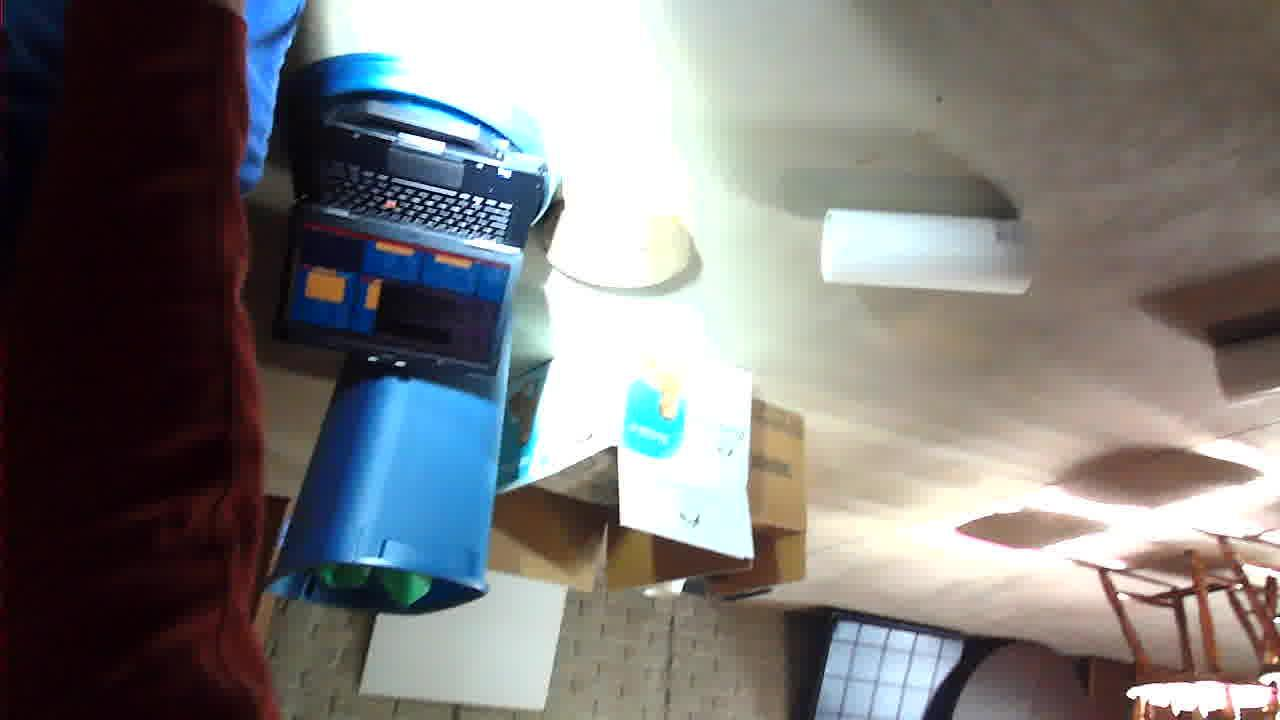coral: (252, 427, 457, 508), (2, 319, 72, 384)
